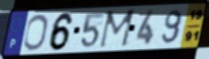4: (134, 8, 155, 47)
5: (80, 11, 107, 49)
6: (47, 10, 76, 52)
9: (162, 8, 184, 45)
M: (97, 8, 138, 50)
O: (22, 14, 49, 53)
